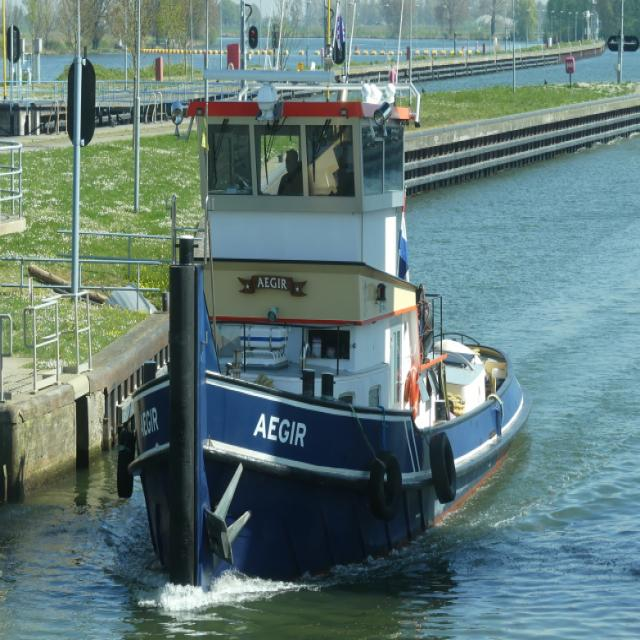tugboat: (115, 61, 539, 614)
